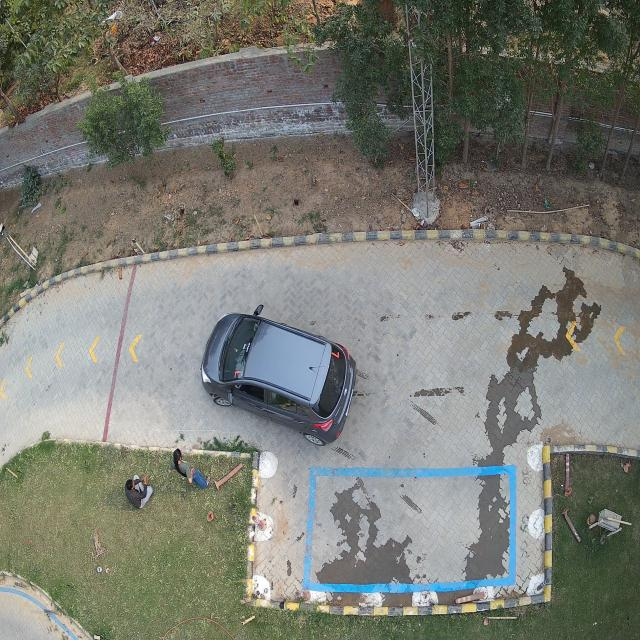car: (201, 305, 358, 445)
